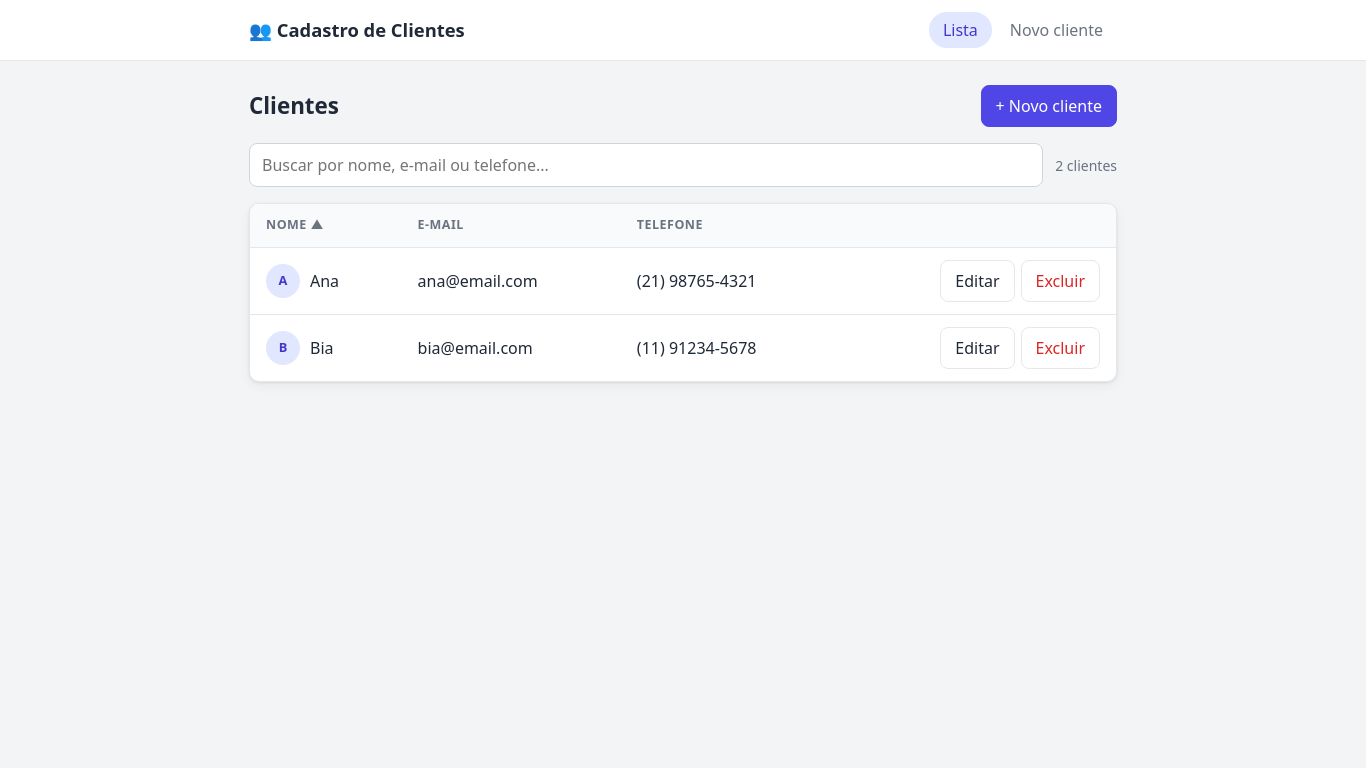
Scenario: Edição e exclusão › não exclui ao cancelar
The image size is (1366, 768).
Step 1. Click the button "Excluir" in the row of "ana@email.com" → (1061, 281), box [1021, 260, 1101, 302]
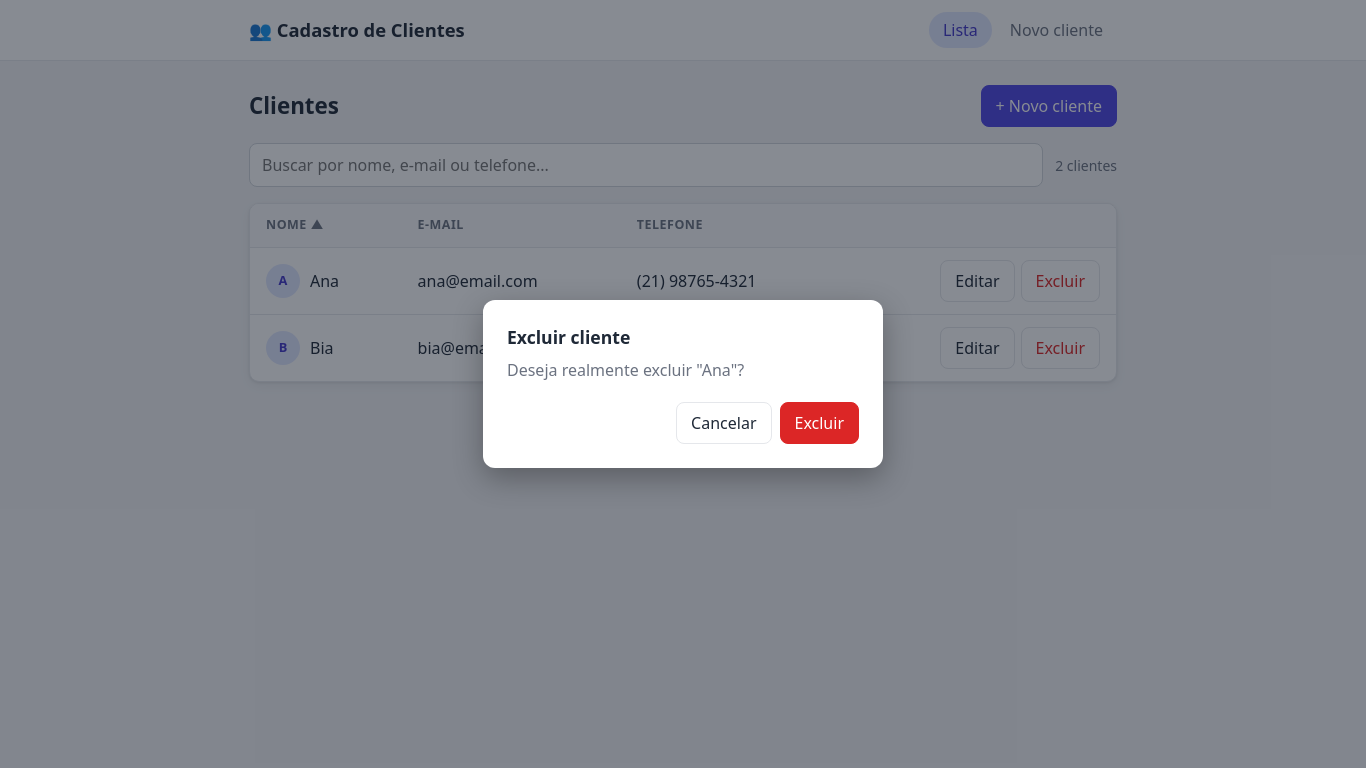
Step 2. Click the button "Cancelar" → (724, 423), box [676, 402, 771, 444]
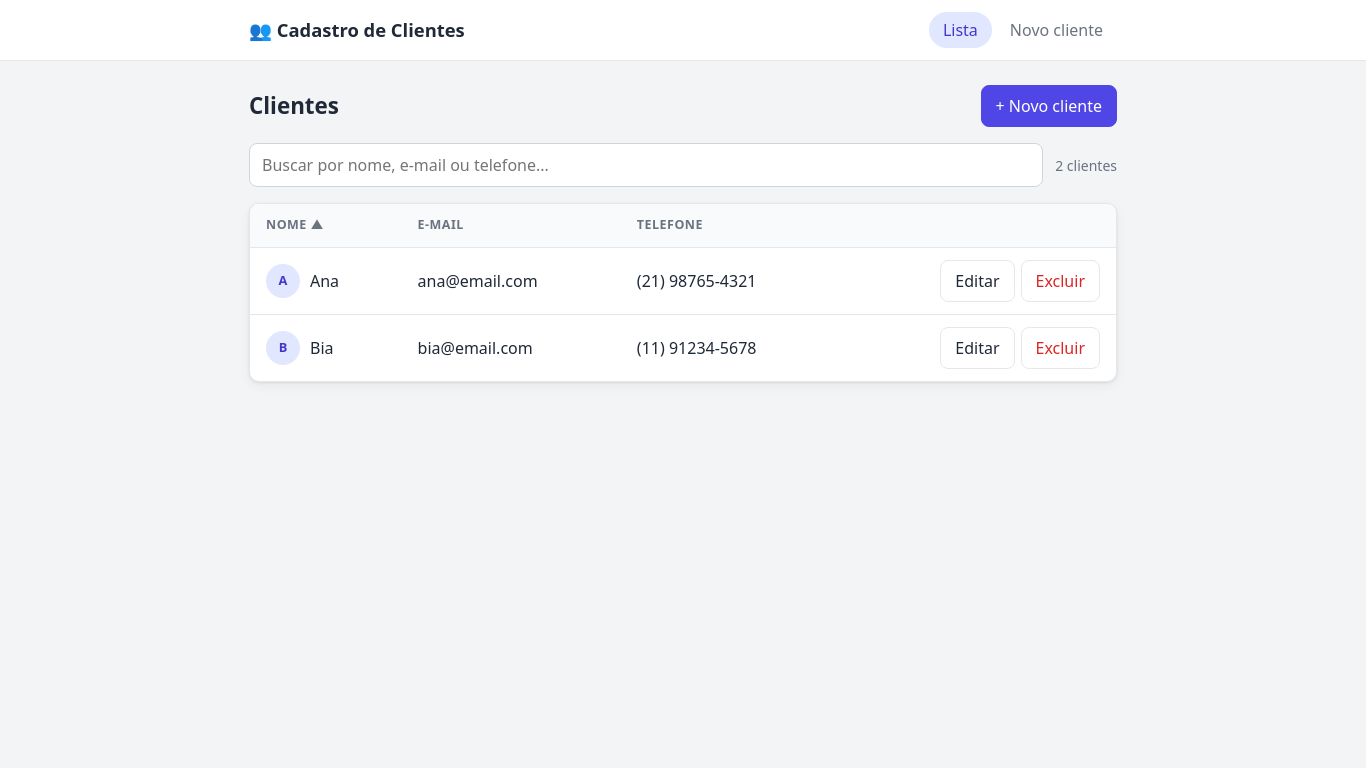
expect the text "Ana" is shown: met, box [310, 270, 339, 292]
expect the dialog with class "modal" is gone: met
